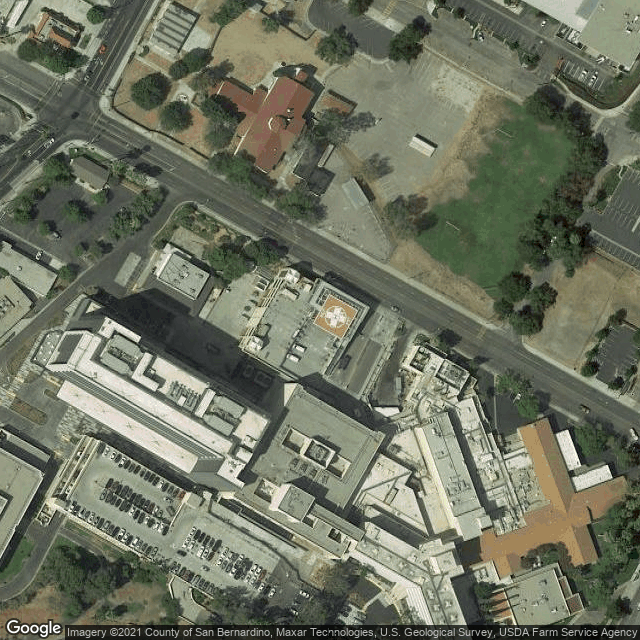Helipad: (312, 291, 360, 343)
